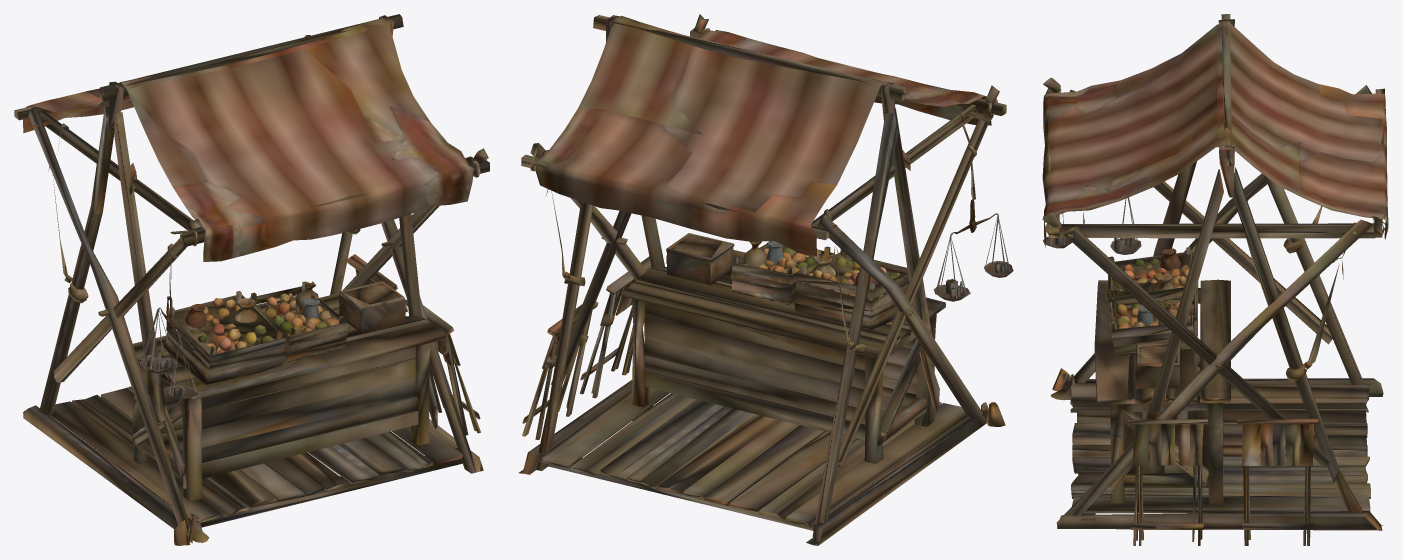
The model's file is market-stall.glb.
3 renders of one model, left to right at view 1: azimuth 30°, elevation 25°; view 2: azimuth 150°, elevation 25°; view 3: azimuth 270°, elevation 25°, orthographic. The views are drawn at different scales.
Parts seen in each view (by area): view 1: geometry_0; view 2: geometry_0; view 3: geometry_0.
Boxes of the visible parts, <box> form: geometry_0: <box>14,14,489,545</box>; geometry_0: <box>519,14,1013,545</box>; geometry_0: <box>1042,14,1388,545</box>.
Size of the model in its own units: 2.35 by 2.5 by 2.08.
1 material, 1 textured.
